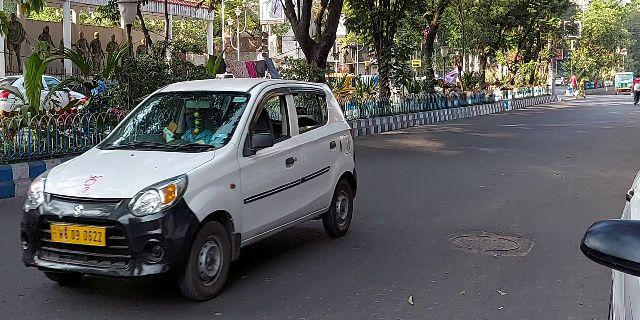Car: (21, 76, 356, 301)
